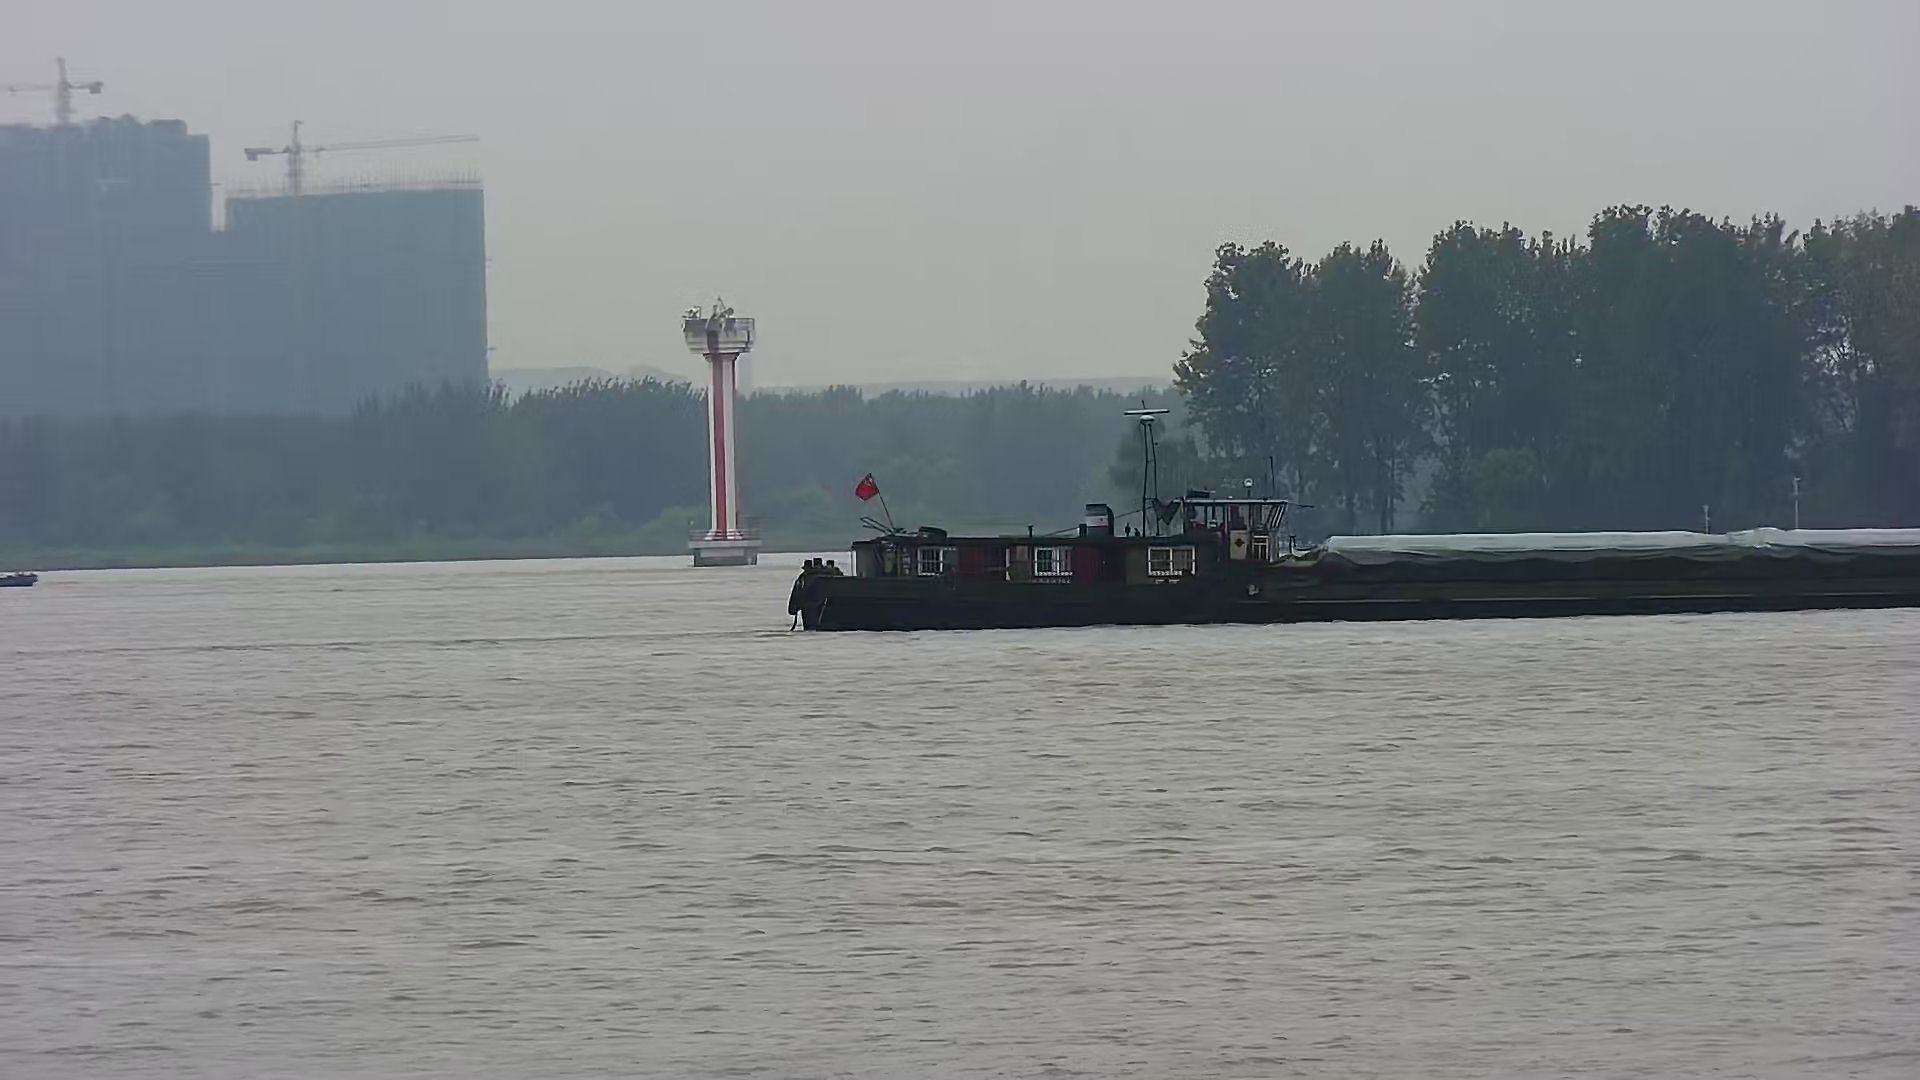boat: (1, 564, 37, 595)
platform: (663, 286, 774, 572)
ship: (786, 404, 1920, 628)
